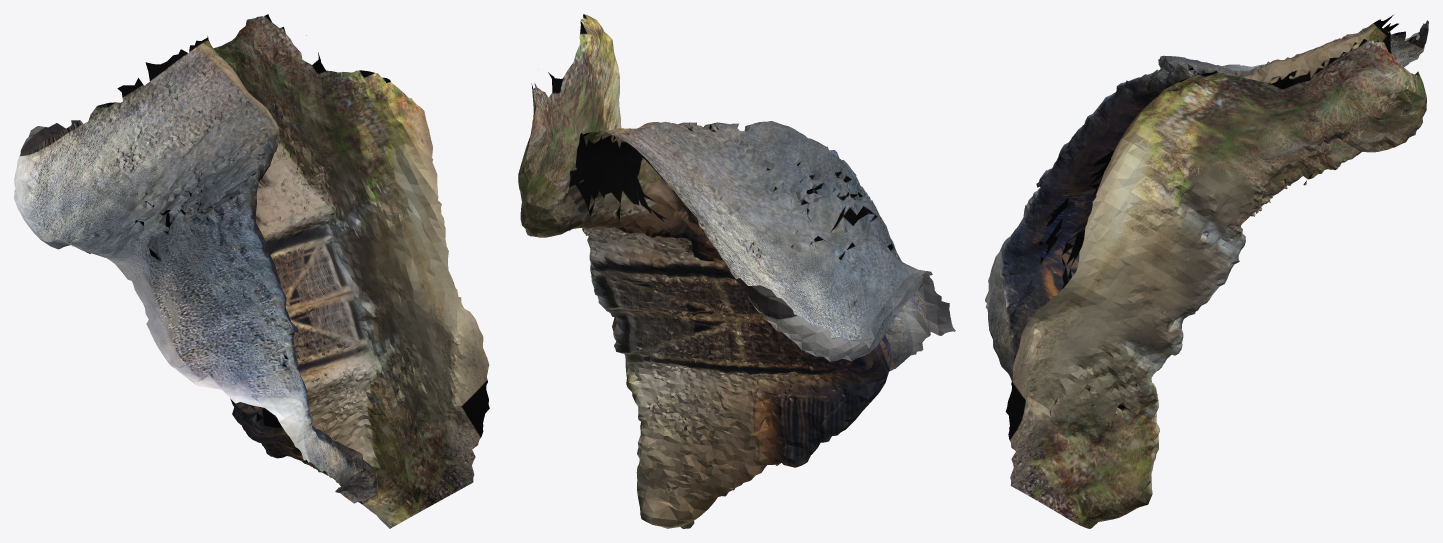
File: roundhouse.obj
3 views of the same model, side by side, from view 1: azimuth 30°, elevation 25°; view 2: azimuth 150°, elevation 25°; view 3: azimuth 270°, elevation 25° (orthographic). The views are drawn at different scales.
Size of the model in its own units: 17.03 by 21.83 by 18.03.
1 material, 1 textured.
